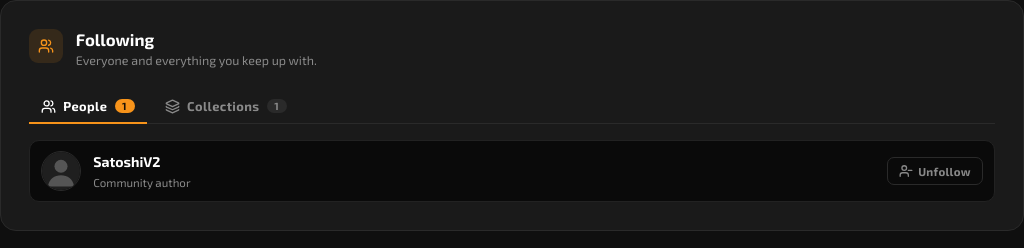
Scenario: the following list › shows followed collections on the other tab
expect the text "SatoshiV2" is shown: met, box [93, 153, 161, 170]
What coordinates should you click on to do the following:
click the tab "Collections 1"
I would click on:
 (226, 107)
Its box is [153, 90, 299, 124].
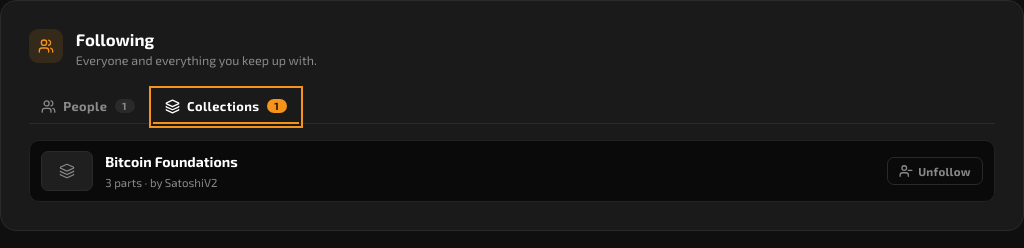
expect the text "Bitcoin Foundations" is shown: met, box [105, 151, 238, 172]
expect the text "3 parts · by SatoshiV2" is shown: met, box [105, 175, 217, 189]
